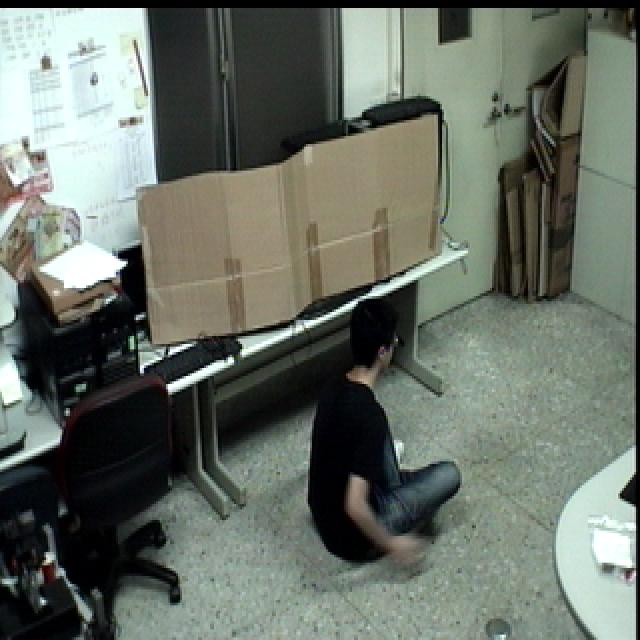sit: (305, 290, 466, 568)
